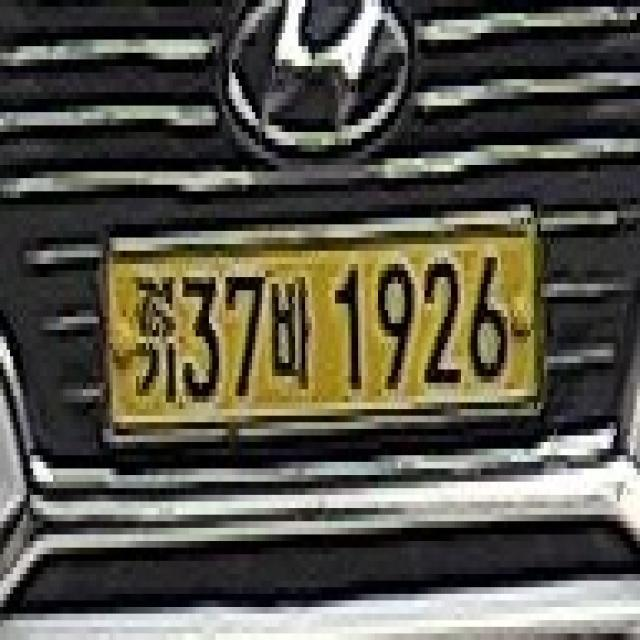plat: (99, 199, 548, 445)
